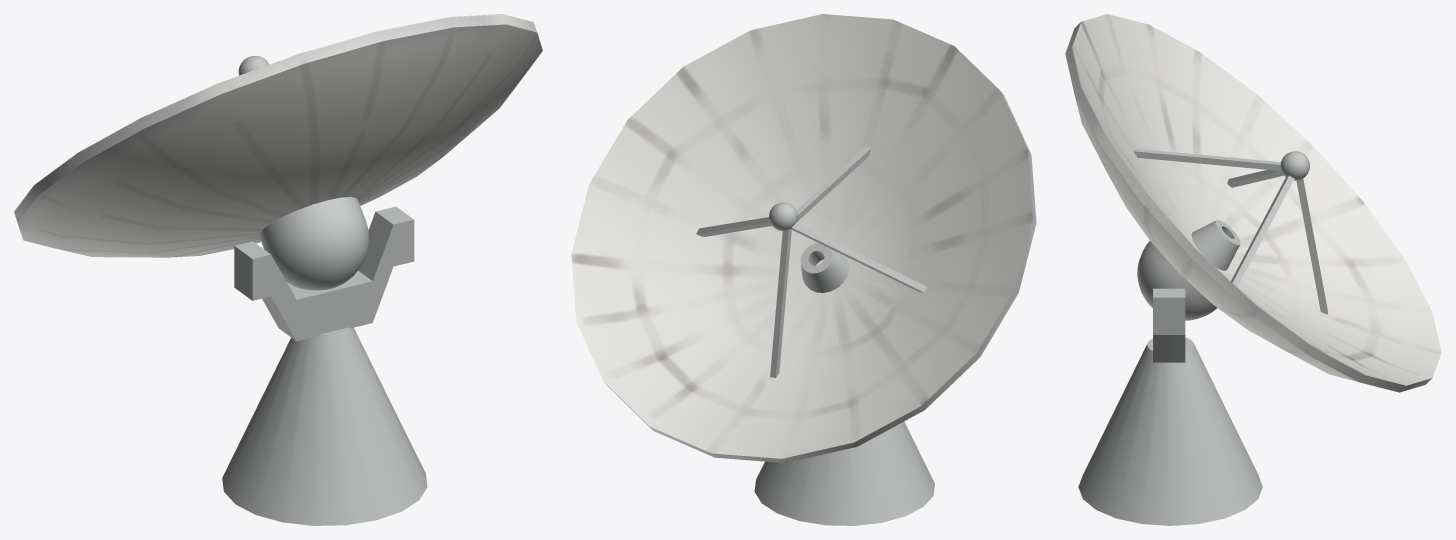
The model's file is dish_antenna.glb.
The picture shows the model from 3 angles, left to right: view 1: azimuth 30°, elevation 25°; view 2: azimuth 150°, elevation 25°; view 3: azimuth 270°, elevation 25°; orthographic projection. The views are drawn at different scales.
Visible parts, largest first — view 1: antenna pCylinder2 dish, base antenna pCylinder1, pCube1 base antenna, antenna dish pSphere1; view 2: antenna pCylinder2 dish, base antenna pCylinder1, antenna dish pPipe1, antenna dish pCube3, antenna dish pCube5, antenna dish pCube2, antenna dish pCube4, antenna dish pSphere2; view 3: antenna pCylinder2 dish, base antenna pCylinder1, pCube1 base antenna, antenna dish pSphere1, antenna dish pPipe1, antenna dish pCube2, antenna dish pCube4, antenna dish pCube3, antenna dish pSphere2, antenna dish pCube5.
Part boxes in pixels (left/top/right/bottom): antenna pCylinder2 dish: left=14, top=14, right=542, bottom=257; base antenna pCylinder1: left=222, top=327, right=427, bottom=525; pCube1 base antenna: left=234, top=206, right=414, bottom=341; antenna dish pSphere1: left=259, top=197, right=369, bottom=290; antenna pCylinder2 dish: left=571, top=14, right=1036, bottom=462; base antenna pCylinder1: left=754, top=421, right=934, bottom=525; antenna dish pPipe1: left=800, top=243, right=849, bottom=292; antenna dish pCube3: left=770, top=229, right=791, bottom=377; antenna dish pCube5: left=791, top=222, right=926, bottom=292; antenna dish pCube2: left=796, top=146, right=871, bottom=221; antenna dish pCube4: left=696, top=217, right=771, bottom=236; antenna dish pSphere2: left=769, top=202, right=797, bottom=231; antenna pCylinder2 dish: left=1065, top=14, right=1441, bottom=392; base antenna pCylinder1: left=1078, top=337, right=1262, bottom=525; pCube1 base antenna: left=1153, top=288, right=1185, bottom=362; antenna dish pSphere1: left=1137, top=241, right=1216, bottom=320; antenna dish pPipe1: left=1191, top=220, right=1240, bottom=270; antenna dish pCube2: left=1133, top=148, right=1281, bottom=170; antenna dish pCube4: left=1231, top=175, right=1294, bottom=286; antenna dish pCube3: left=1296, top=178, right=1327, bottom=314; antenna dish pSphere2: left=1280, top=151, right=1309, bottom=180; antenna dish pCube5: left=1227, top=170, right=1283, bottom=187.
Size of the model in its own units: 10.45 by 10.14 by 7.86.
Materials: 2 (2 with a texture image).
